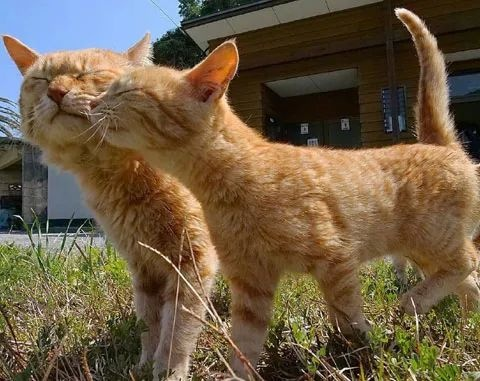cat: (91, 8, 480, 381), (2, 30, 219, 381)
